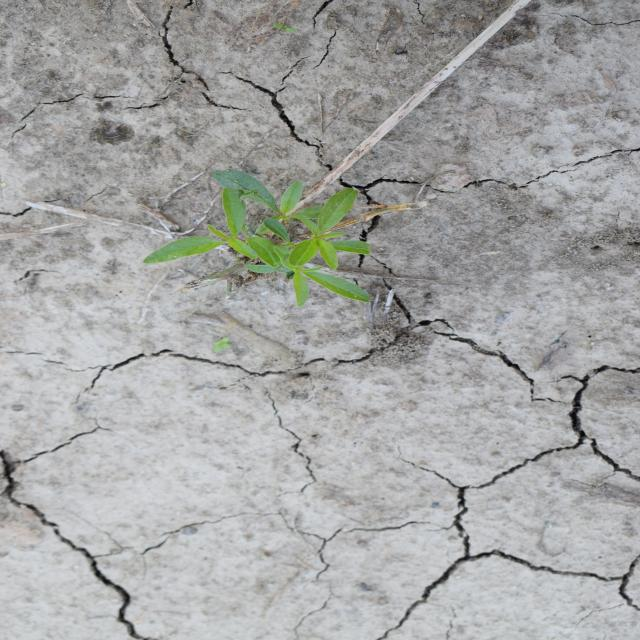Waterhemp: (141, 166, 375, 308)
